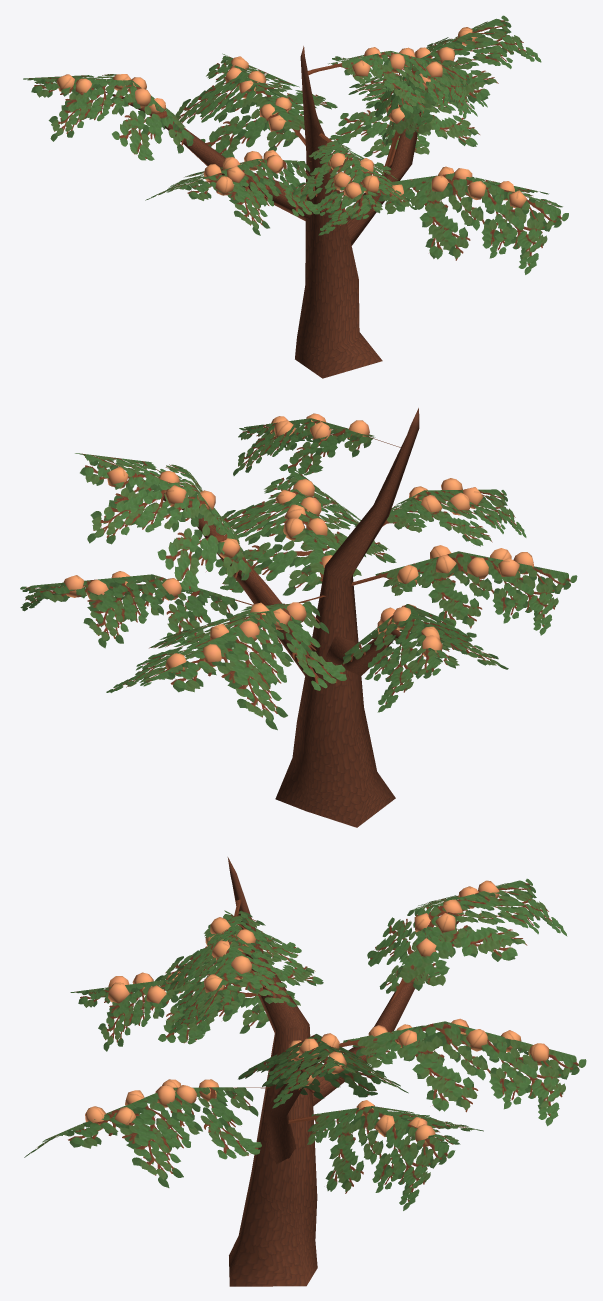
The model's file is Apricot01.fbx.
3 views of the same model, one above another, from view 1: azimuth 30°, elevation 25°; view 2: azimuth 150°, elevation 25°; view 3: azimuth 270°, elevation 25° (orthographic). The views are drawn at different scales.
Visible parts, largest first — view 1: Apricot01; view 2: Apricot01; view 3: Apricot01.
Part boxes in pixels (x1=…): Apricot01: x1=23, y1=15, x2=568, y2=378; Apricot01: x1=20, y1=408, x2=577, y2=827; Apricot01: x1=24, y1=857, x2=586, y2=1286.
Bounding box in the file's own units: 406 × 291 × 386.
